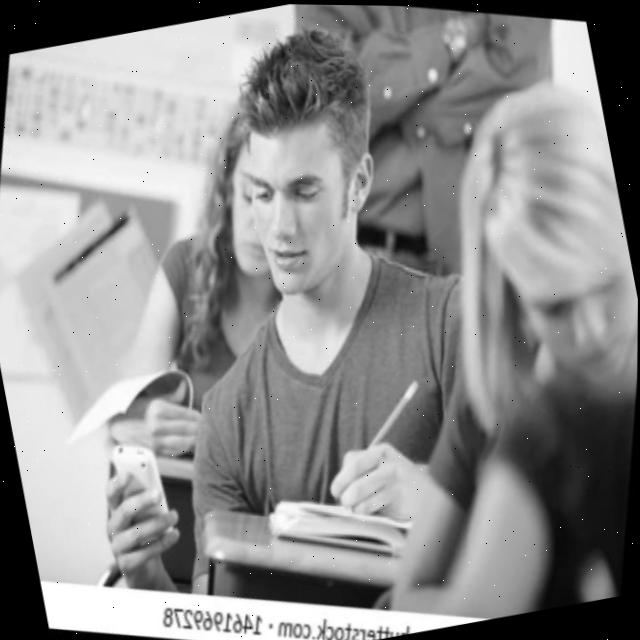phone: (87, 429, 197, 559)
